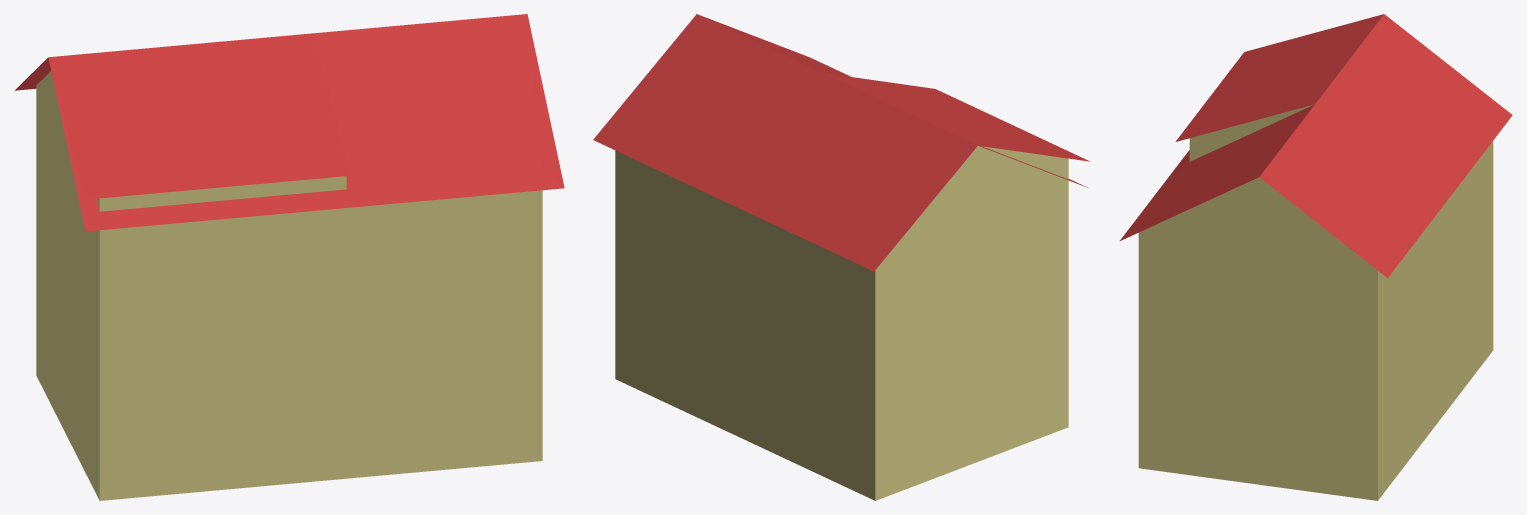
The picture shows the model from 3 angles, left to right: view 1: azimuth 30°, elevation 25°; view 2: azimuth 150°, elevation 25°; view 3: azimuth 270°, elevation 25°; orthographic projection. The views are drawn at different scales.
Bounding box in the file's own units: 15.41 × 12.82 × 11.3.
